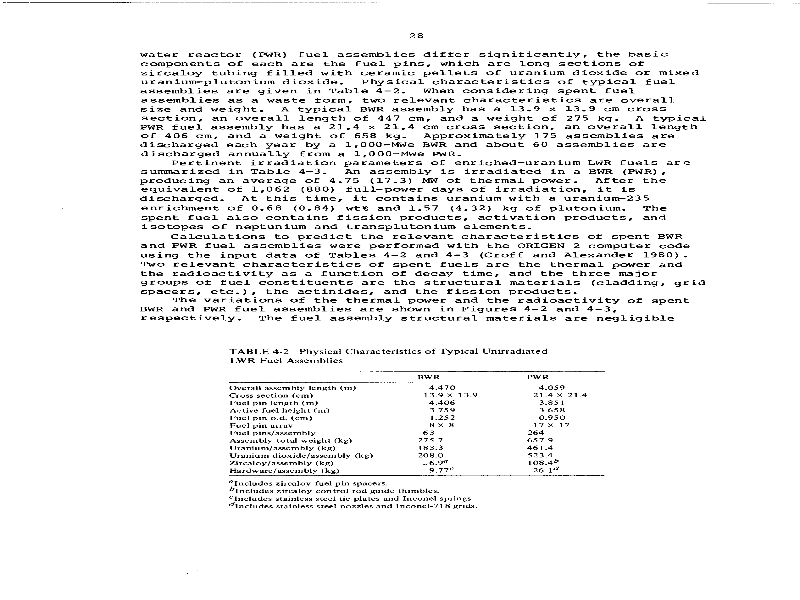table: (230, 371, 606, 516)
